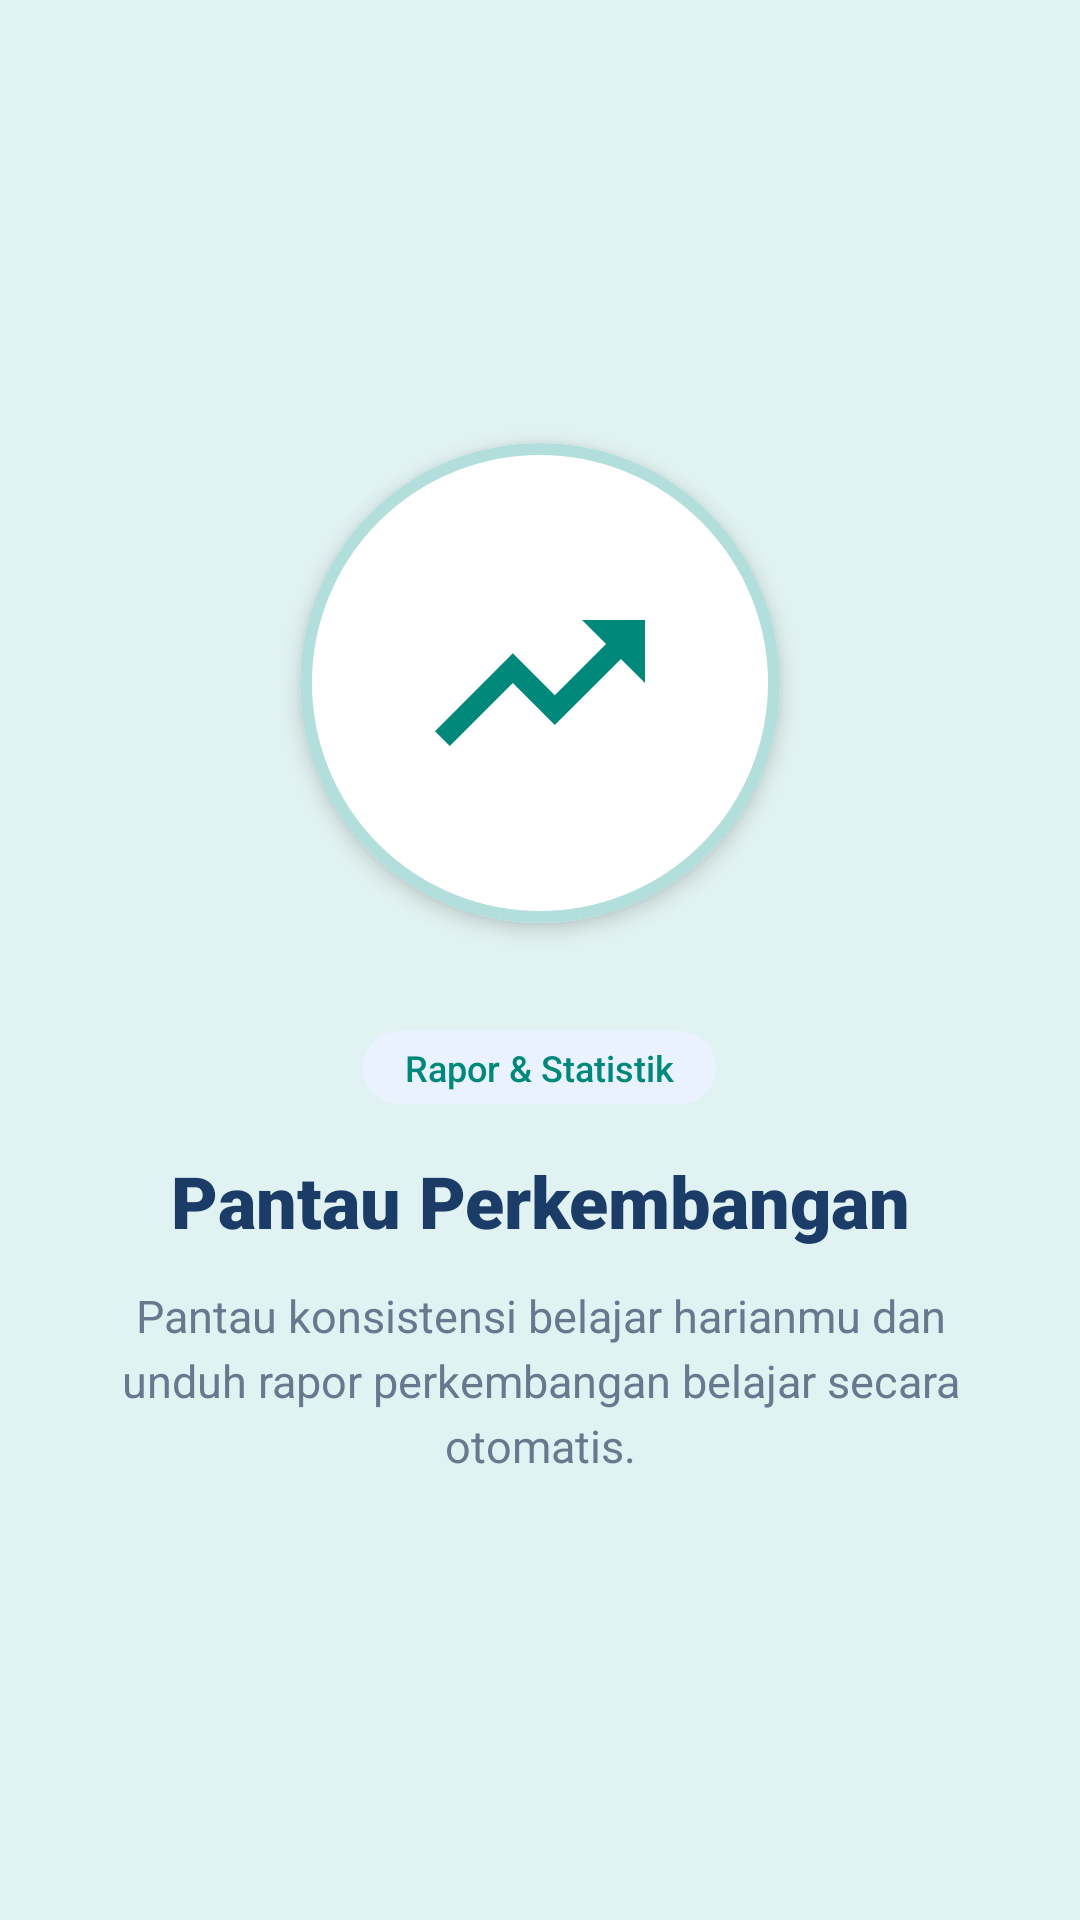

Screen size 1080px x 1920px. Icon name, then its center in pixels as (x,y):
Ilustrasi Progres: (540,683)
